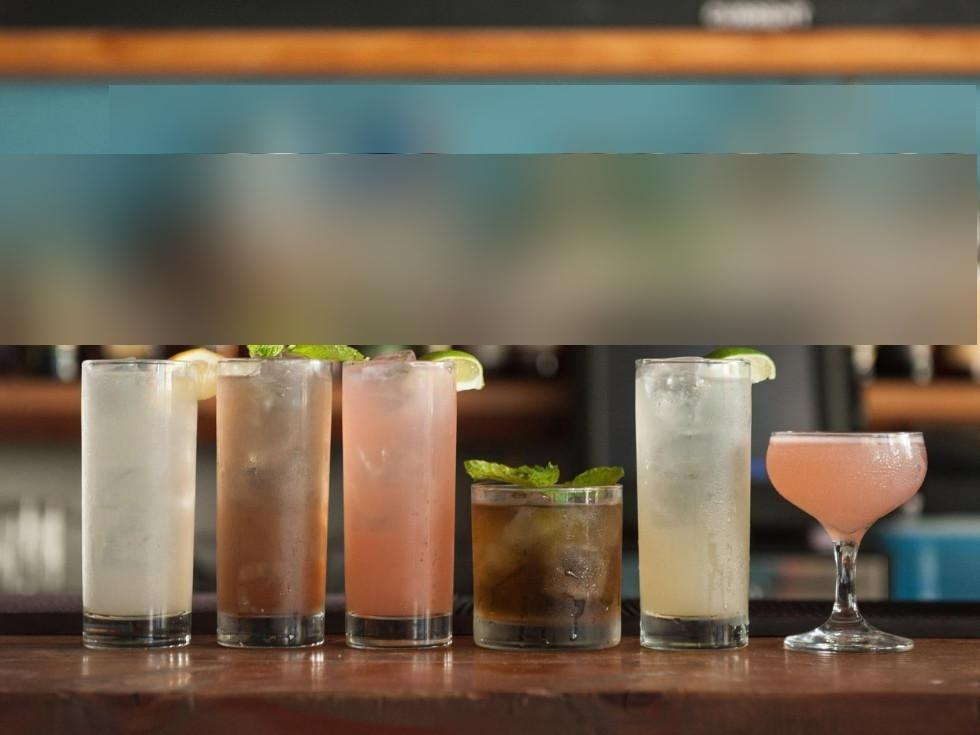glass-normal: (631, 353, 756, 653), (212, 353, 337, 651), (77, 355, 202, 652), (339, 353, 462, 652), (468, 480, 627, 653)
glass-wine: (765, 426, 929, 654)
